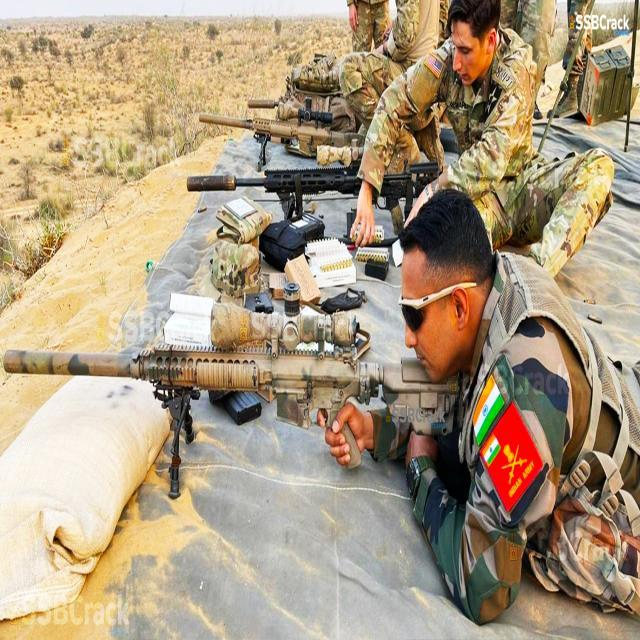scope: (207, 302, 358, 360), (318, 142, 372, 165), (291, 98, 337, 124)
sniper rifle: (2, 321, 458, 489), (182, 150, 444, 220), (197, 92, 361, 156)
